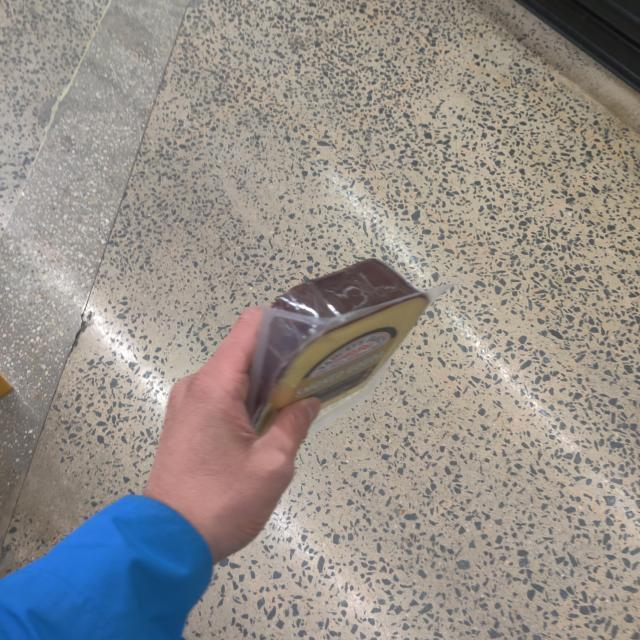Cheese: (263, 256, 432, 424)
